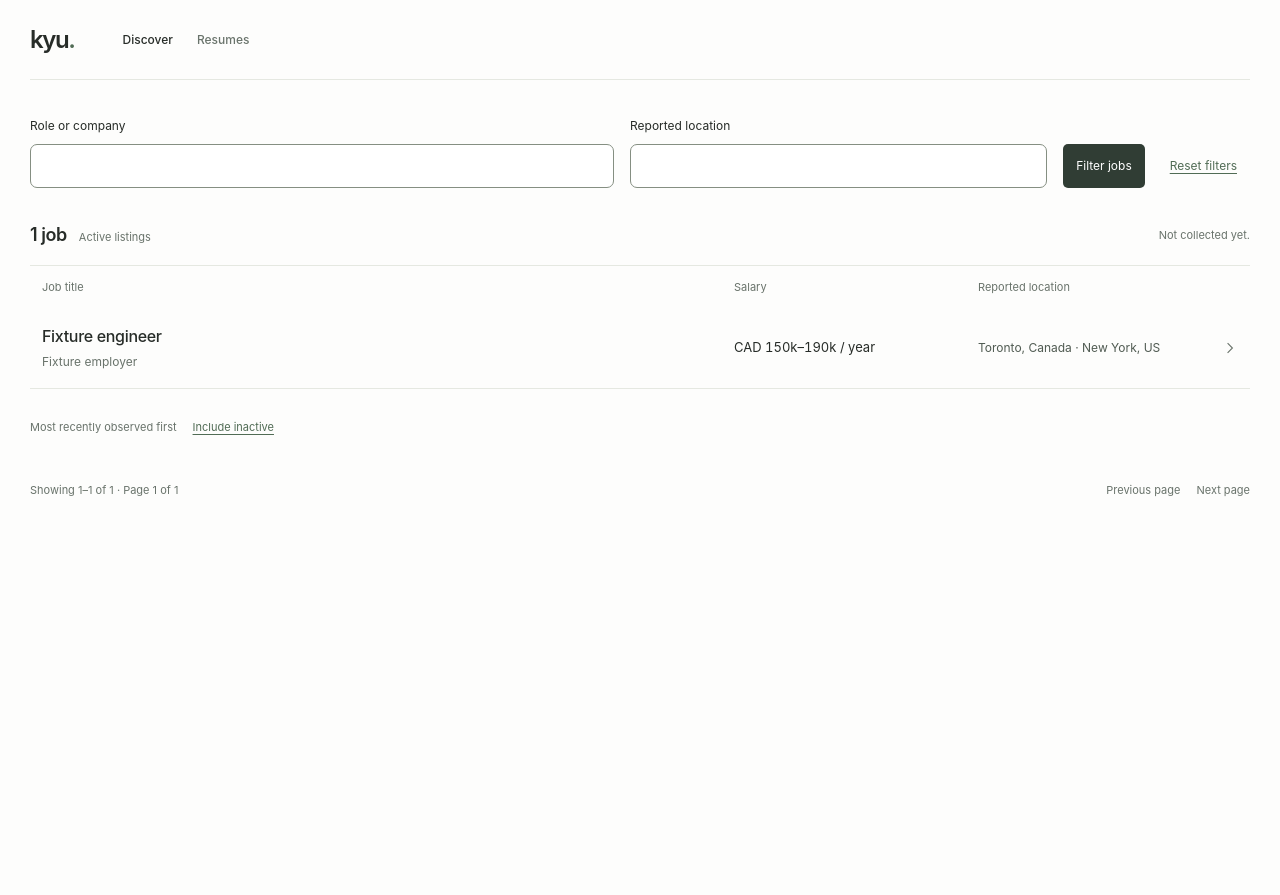
Test: JobCatalog › renders untrusted descriptions as plain text, never injected HTML or script
Step 1. Click the heading that starts with "Fixture engineer" → (102,336), box [42,326,1238,369]
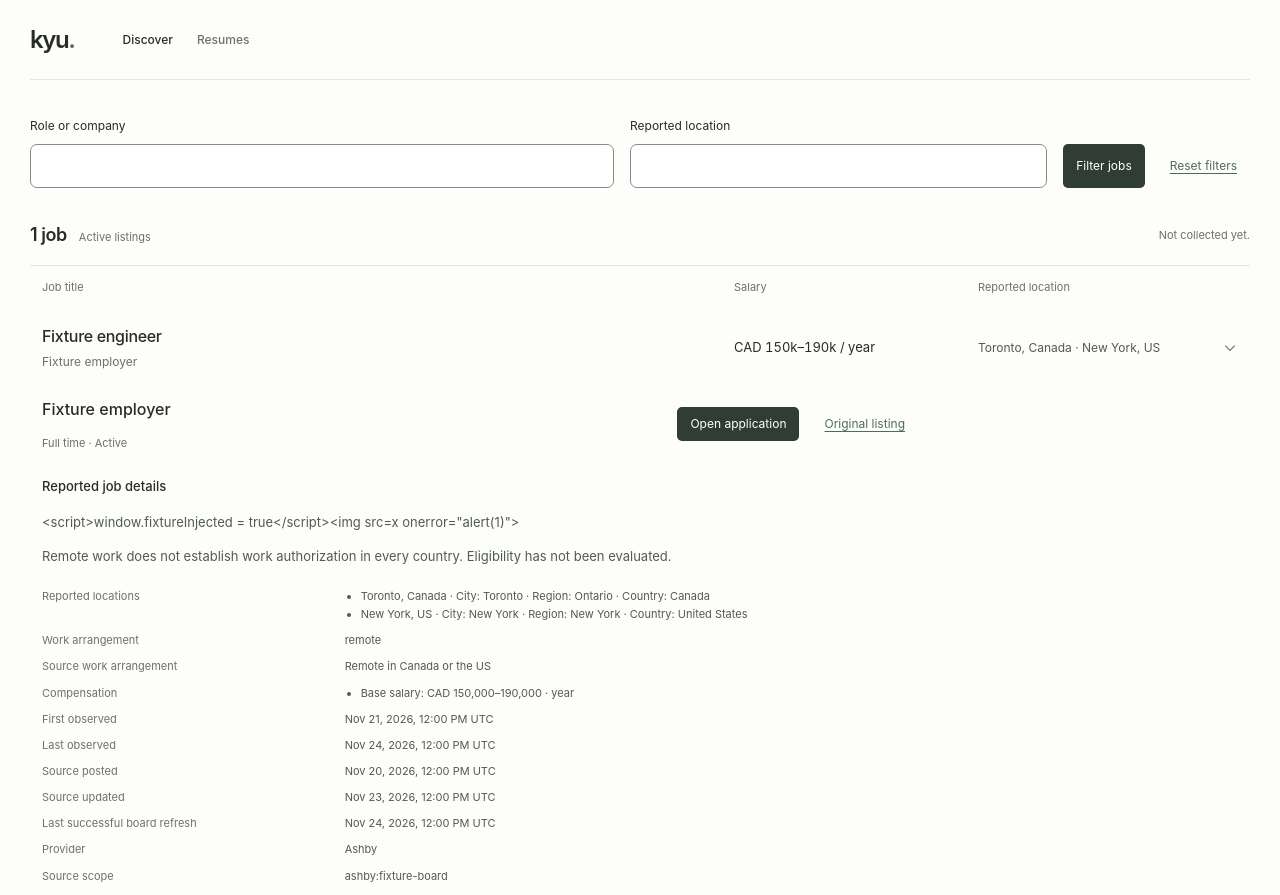
Expected: the text "<script>window.fixtureInjected = true</script><img src=x onerror=\"alert(1)\">" is shown, [42,514,519,530]
